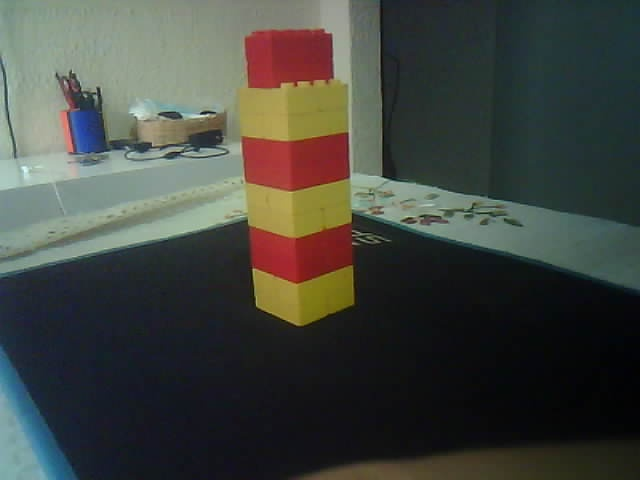lego: (236, 28, 356, 328)
